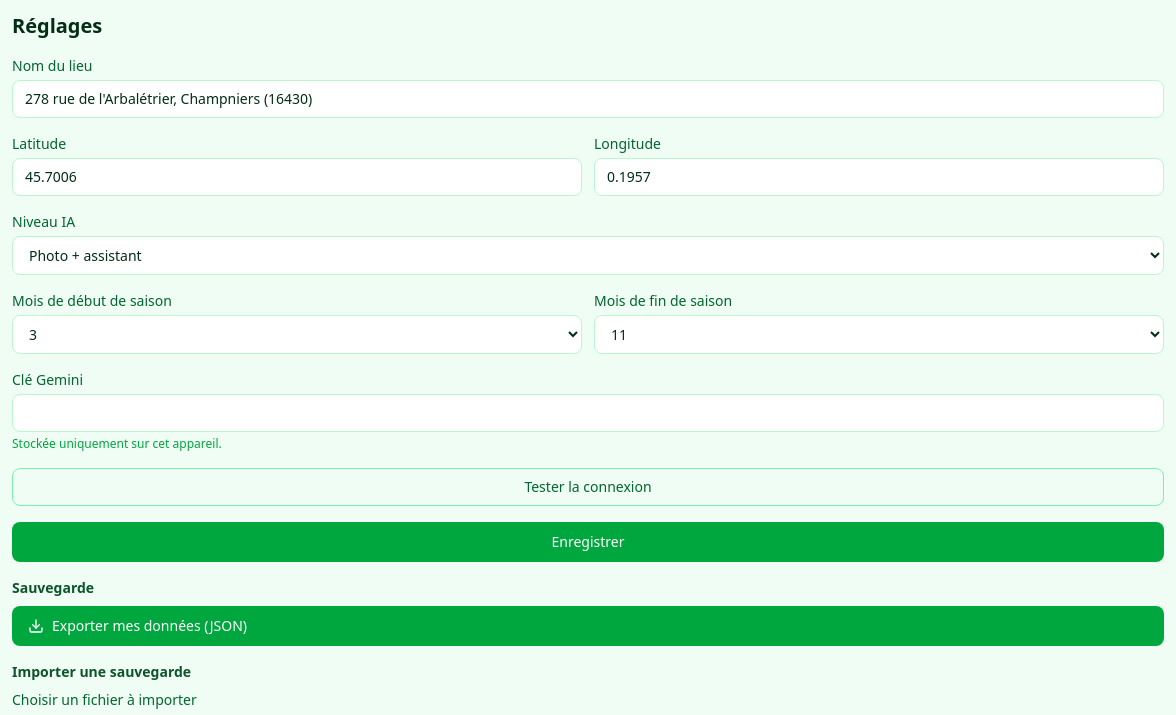
Test: SettingsPage › affiche le message d'erreur si la connexion échoue
Expected: the field labelled "Nom du lieu" is shown, [12,80,1164,118]
Type "mauvaise" into the password field labelled "Clé Gemini" at x=588, y=413, box [12,394,1164,432]
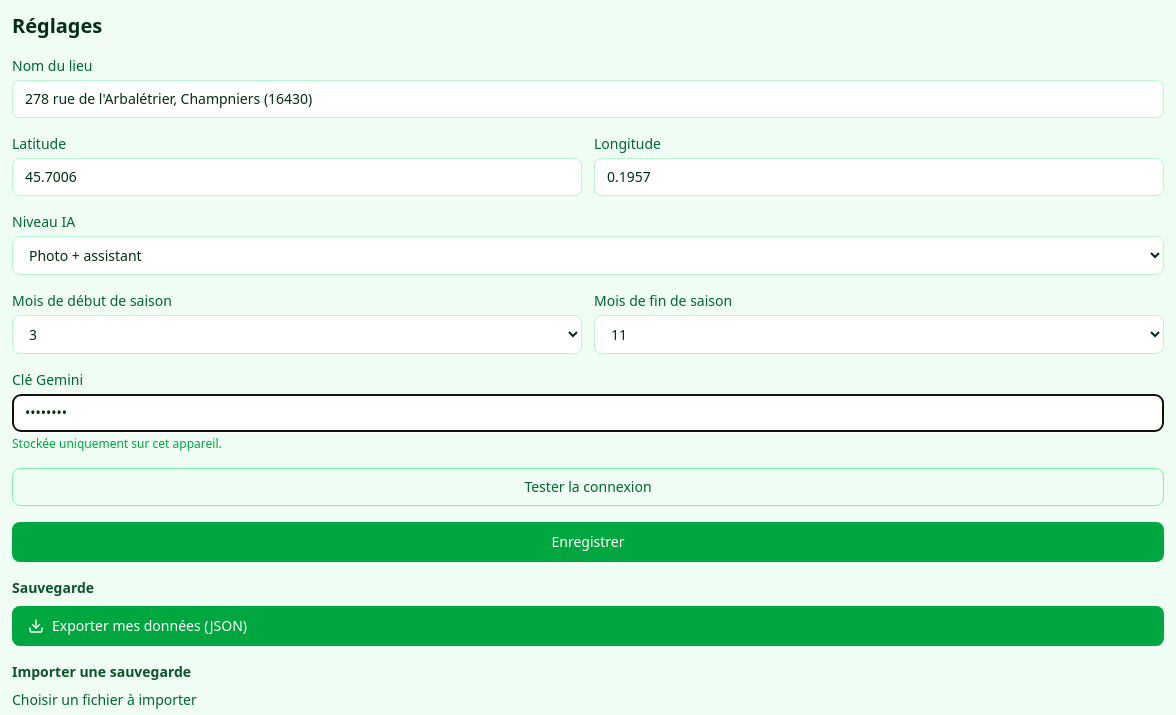
Click the button "Tester la connexion" at x=588, y=487, box [12,468,1164,506]
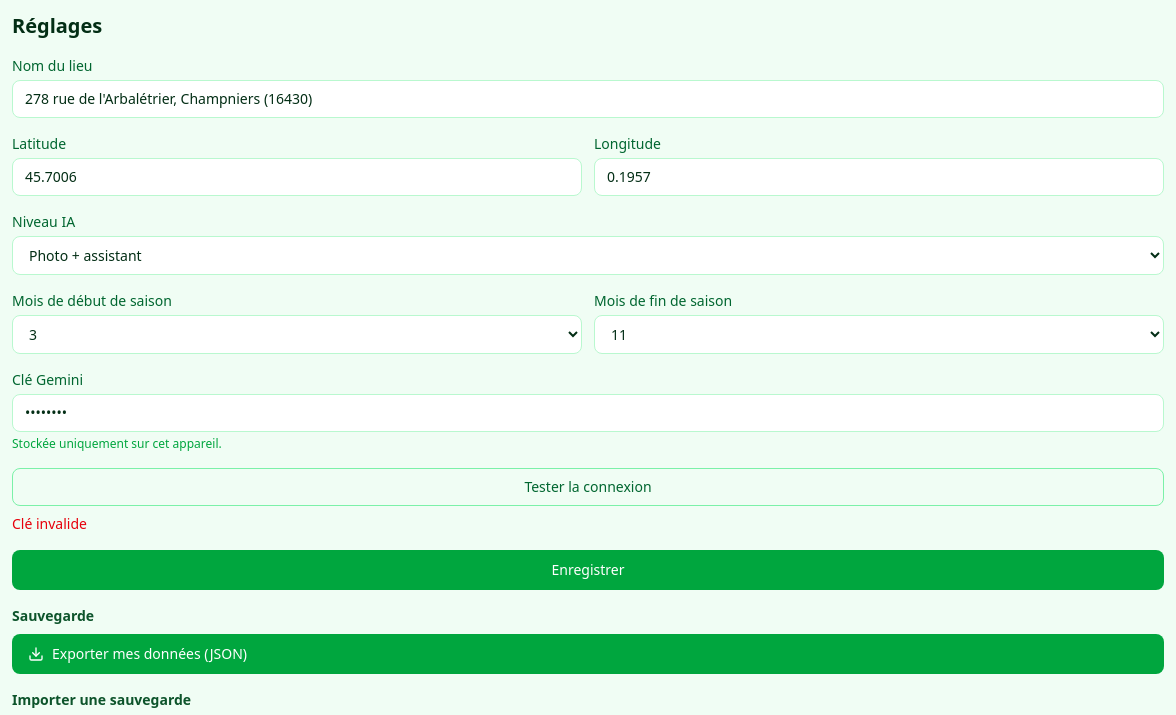
Result: the text "Clé invalide" is shown at [12,514,87,533]
